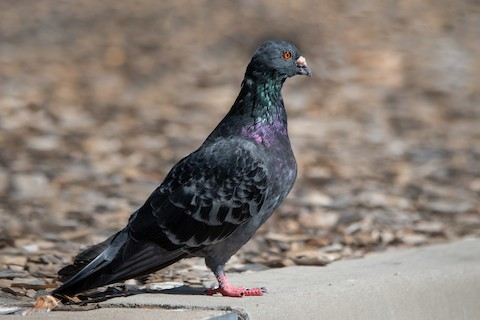pigeon: (51, 37, 312, 309)
